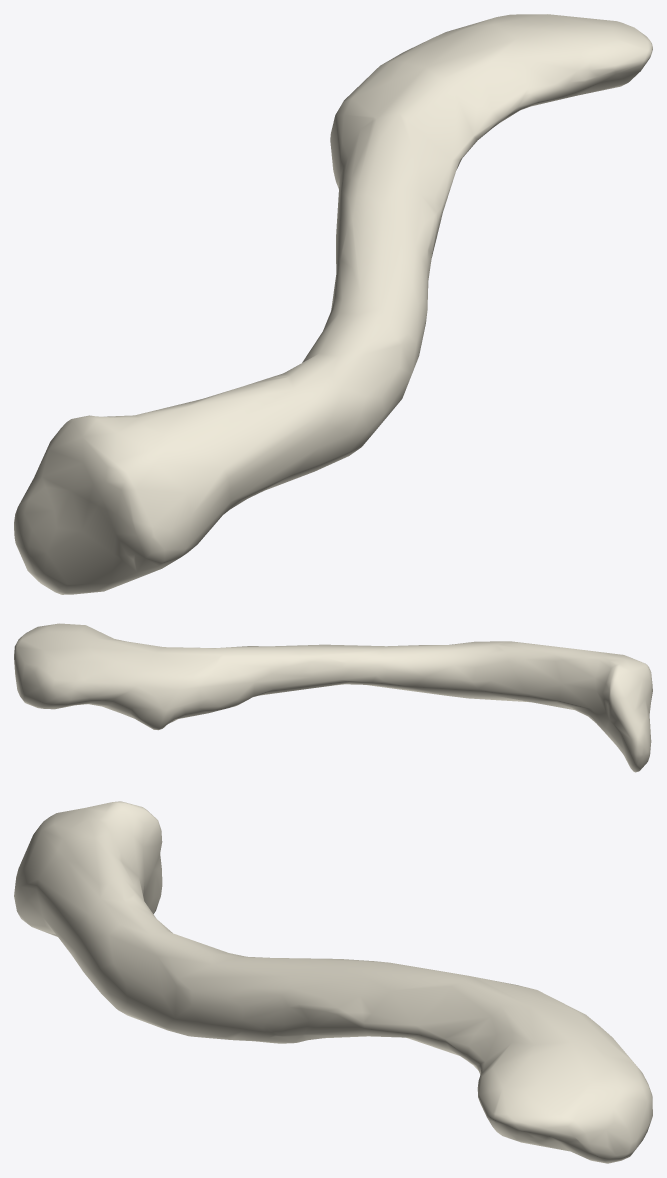
3 renders of one model, top to bottom at view 1: azimuth 30°, elevation 25°; view 2: azimuth 150°, elevation 25°; view 3: azimuth 270°, elevation 25°, orthographic. The views are drawn at different scales.
Visible parts, largest first — view 1: ZA_7e513ab46e08f282; view 2: ZA_7e513ab46e08f282; view 3: ZA_7e513ab46e08f282.
Part boxes in pixels (left/top/right/bottom): ZA_7e513ab46e08f282: left=14, top=14, right=652, bottom=594; ZA_7e513ab46e08f282: left=14, top=623, right=652, bottom=772; ZA_7e513ab46e08f282: left=14, top=801, right=652, bottom=1163.
Bounding box in the file's own units: 0.1431 × 0.0361 × 0.1028.
